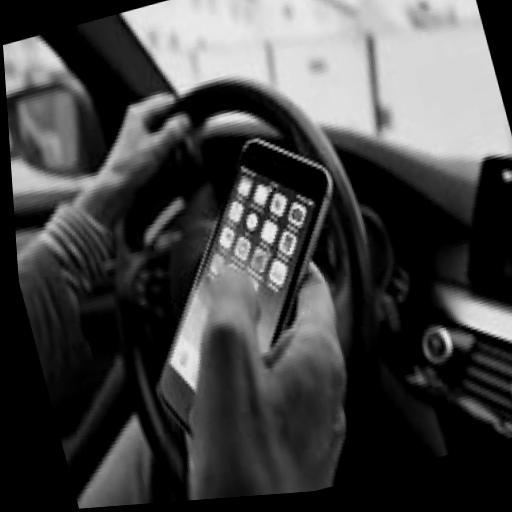Hands-on-the-Wheel: (82, 52, 224, 204)
